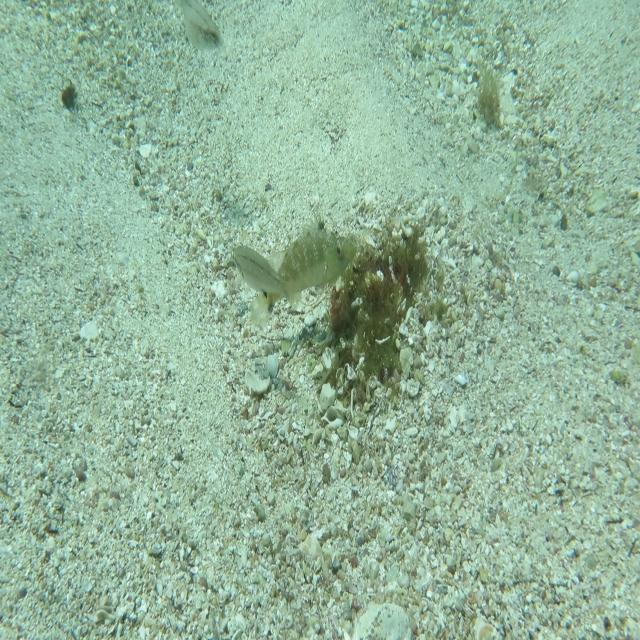LF: (243, 207, 359, 332)
female: (232, 243, 304, 316), (179, 0, 228, 56)
nest: (316, 200, 440, 409)
